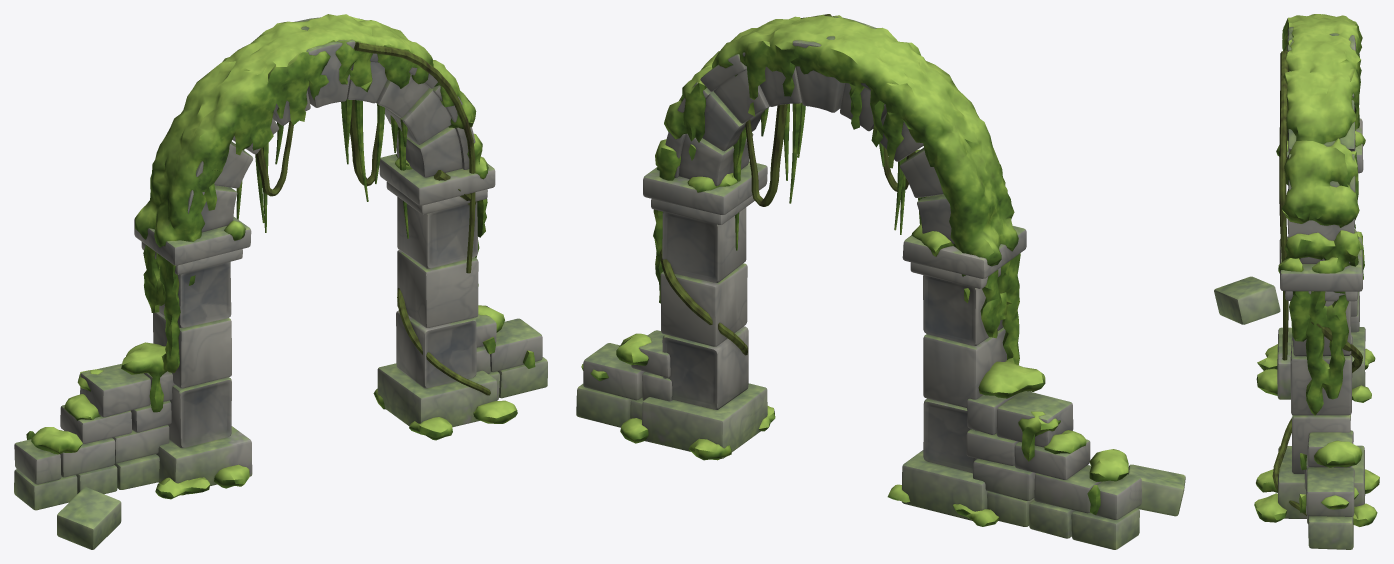
The model's file is ruin_arch.glb.
3 views of the same model, side by side, from view 1: azimuth 30°, elevation 25°; view 2: azimuth 150°, elevation 25°; view 3: azimuth 270°, elevation 25° (orthographic). The views are drawn at different scales.
Visible parts, largest first — view 1: ruin_arch; view 2: ruin_arch; view 3: ruin_arch.
Part boxes in pixels (x1=…): ruin_arch: x1=14, y1=14, x2=547, y2=549; ruin_arch: x1=576, y1=14, x2=1185, y2=549; ruin_arch: x1=1214, y1=14, x2=1379, y2=549.
Bounding box in the file's own units: 6.05 × 4.65 × 1.68.
1 material, 1 textured.
